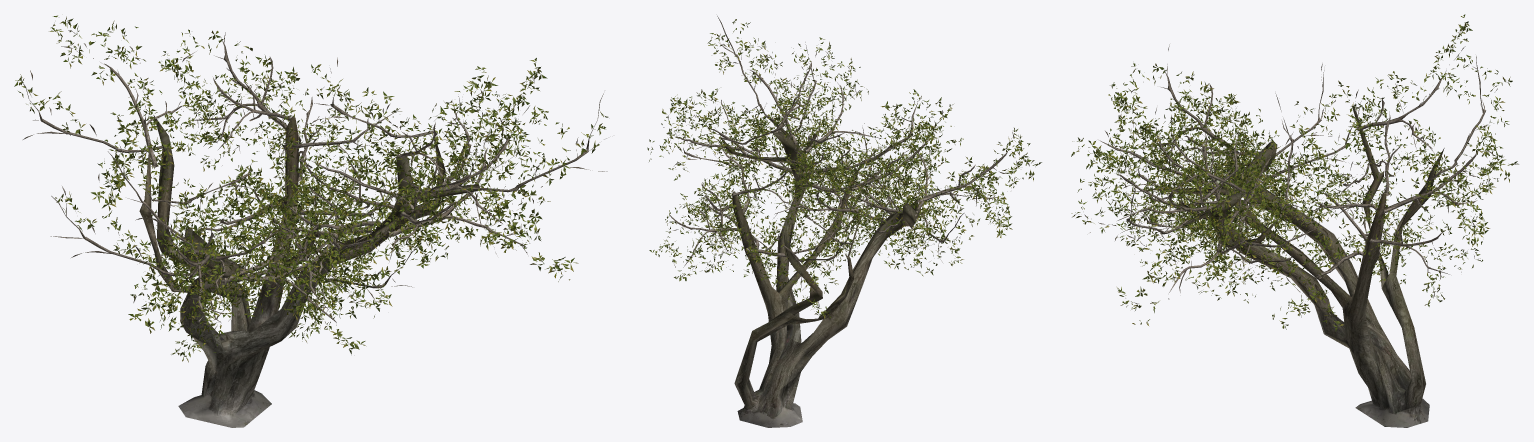
Rendered from island_tree_02_2k.glb.
The picture shows the model from 3 angles, left to right: view 1: azimuth 30°, elevation 25°; view 2: azimuth 150°, elevation 25°; view 3: azimuth 270°, elevation 25°; orthographic projection. The views are drawn at different scales.
Visible parts, largest first — view 1: island_tree_02_LOD0; view 2: island_tree_02_LOD0; view 3: island_tree_02_LOD0.
Part boxes in pixels (x1=…): island_tree_02_LOD0: x1=14, y1=15, x2=608, y2=427; island_tree_02_LOD0: x1=647, y1=16, x2=1041, y2=427; island_tree_02_LOD0: x1=1071, y1=14, x2=1518, y2=427.
Bounding box in the file's own units: 4.05 × 3.4 × 4.04.
Materials: 3 (3 with a texture image).
